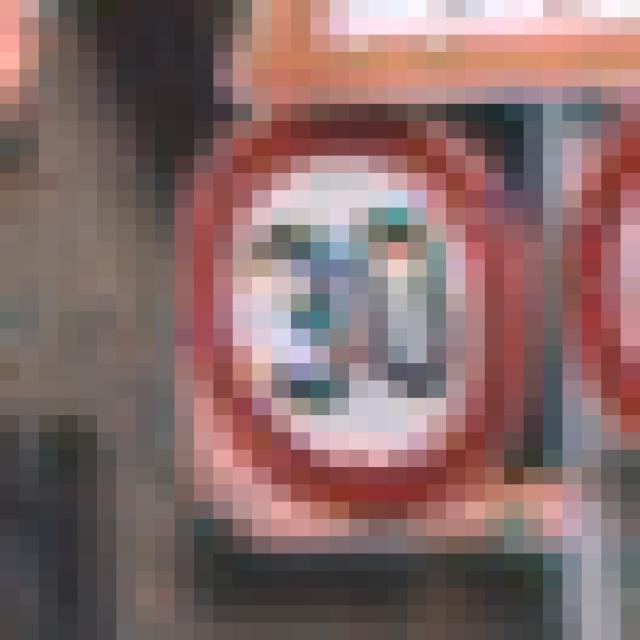Speed Limit -30-: (107, 78, 514, 545)
